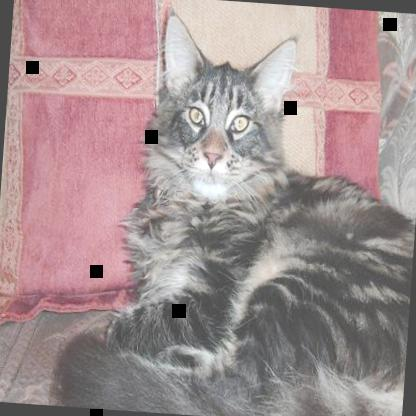cat: (51, 8, 415, 415)
